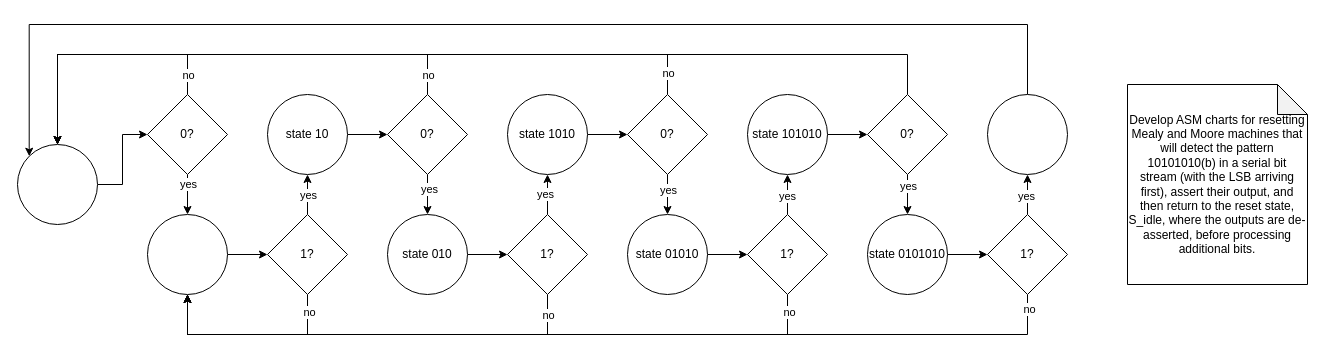
This 1325x360 diagram has some shape labels left out. The centre of each missing label's shape, as x and y in pixels:
"reset S_idle" goes at point (57, 184).
"state 0" goes at point (187, 254).
"state 10101010" goes at point (1027, 134).
